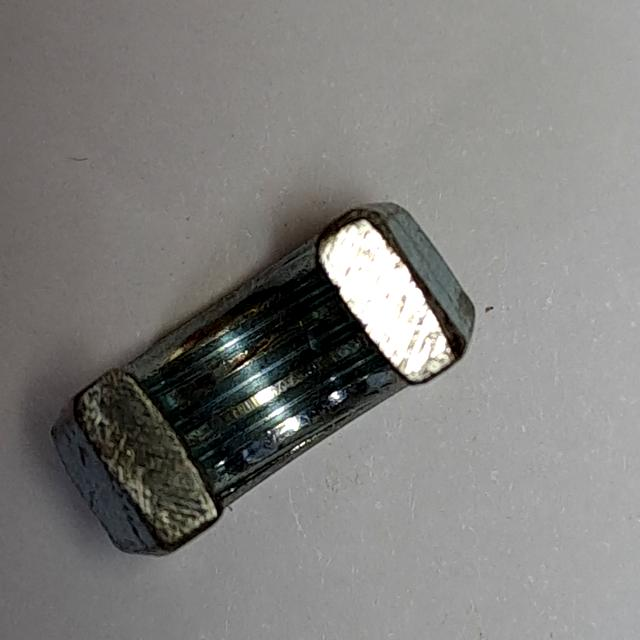Side-Fracture: (42, 192, 488, 578)
